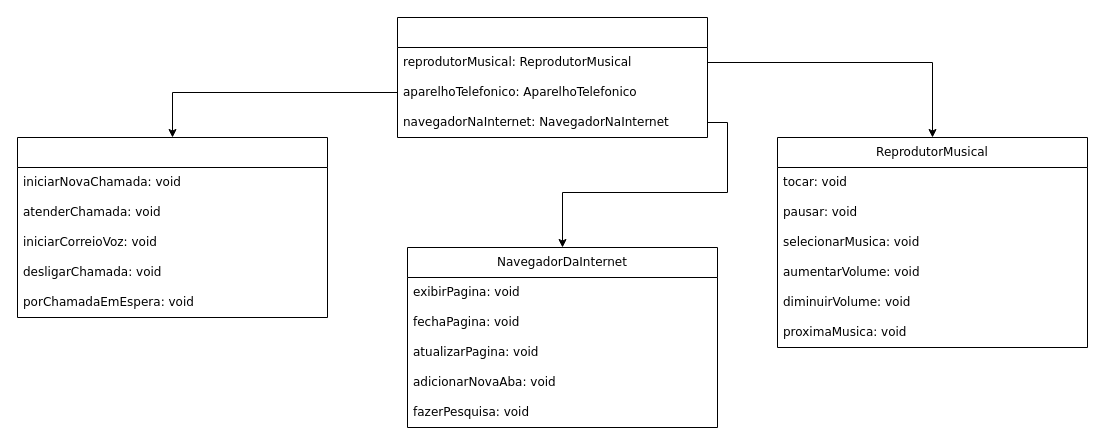
The diagram is 1105 pixels wide and 445 high, and some of its shapes have lost their labels. Here are the shapes that lost their labels. From the top down, the box of each, then its label:
(396, 16, 708, 138): Iphone
(16, 136, 328, 318): AparelhoTelefonico
